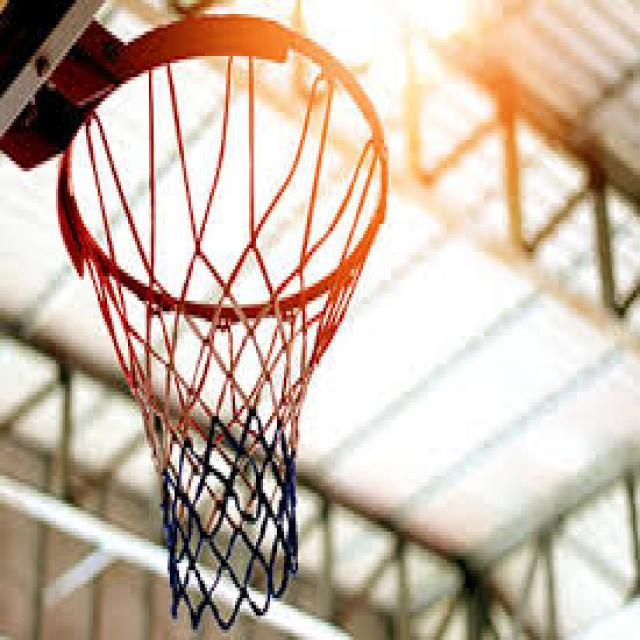rim: (56, 13, 391, 326)
